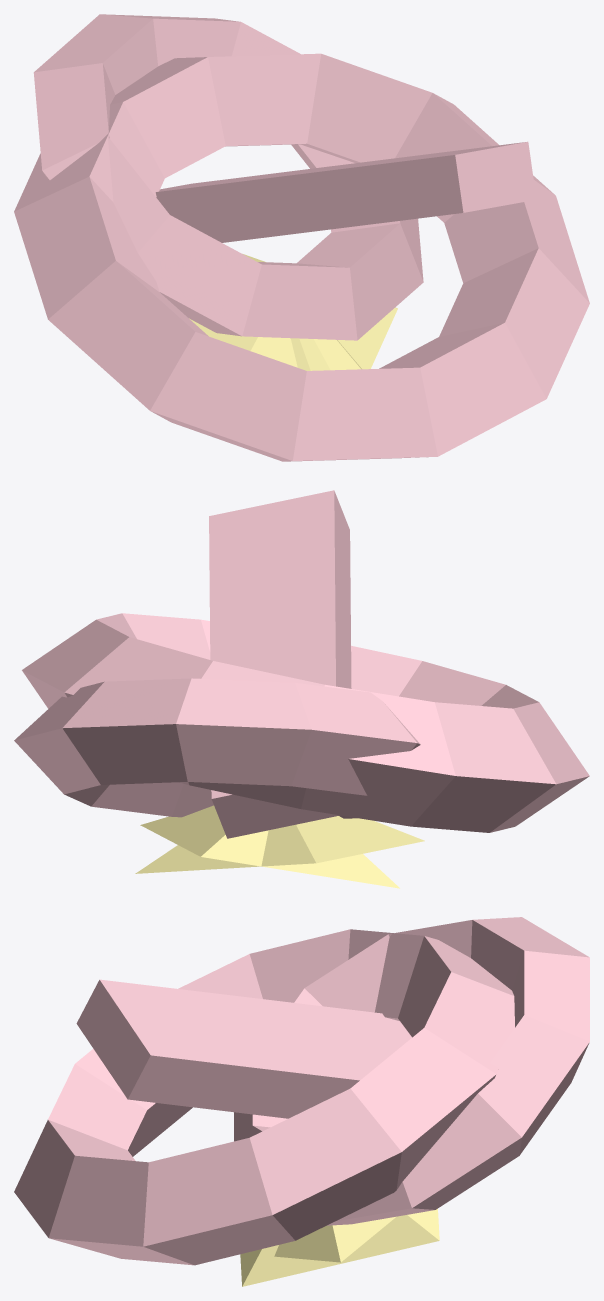
Rendered from sig_unicorn.glb.
The picture shows the model from 3 angles, top to bottom: view 1: azimuth 30°, elevation 25°; view 2: azimuth 150°, elevation 25°; view 3: azimuth 270°, elevation 25°; orthographic projection. The views are drawn at different scales.
Visible parts, largest first — view 1: Torus, Torus.001, Cube, Cone.001, Cone; view 2: Torus, Torus.001, Cube, Cone.001, Cone; view 3: Torus, Torus.001, Cube, Cone.001, Cone.
Part boxes in pixels (x1=…): Torus: x1=14, y1=53, x2=589, y2=461; Torus.001: x1=33, y1=14, x2=423, y2=340; Cube: x1=155, y1=141, x2=536, y2=242; Cone.001: x1=189, y1=318, x2=361, y2=370; Cone: x1=243, y1=254, x2=397, y2=370; Torus: x1=22, y1=613, x2=589, y2=832; Torus.001: x1=14, y1=678, x2=420, y2=818; Cube: x1=209, y1=490, x2=351, y2=838; Cone.001: x1=135, y1=816, x2=424, y2=873; Cone: x1=140, y1=805, x2=399, y2=888; Torus: x1=14, y1=929, x2=514, y2=1265; Torus.001: x1=234, y1=917, x2=589, y2=1225; Cube: x1=76, y1=979, x2=411, y2=1118; Cone.001: x1=240, y1=1208, x2=439, y2=1286; Cone: x1=274, y1=1216, x2=396, y2=1262.
Size of the model in its own units: 0.2 by 0.1186 by 0.2065.
